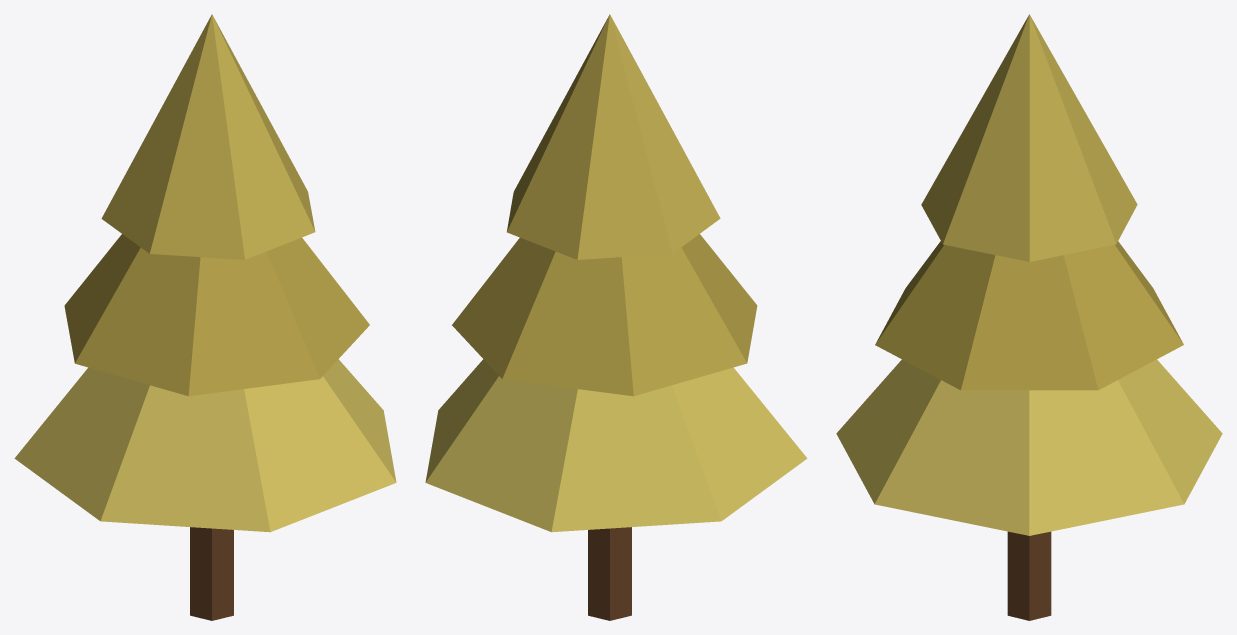
The model's file is SM_PineA_Y.glb.
The picture shows the model from 3 angles, left to right: view 1: azimuth 30°, elevation 25°; view 2: azimuth 150°, elevation 25°; view 3: azimuth 270°, elevation 25°; orthographic projection.
Parts seen in each view (by area): view 1: SM_PineA_Y; view 2: SM_PineA_Y; view 3: SM_PineA_Y.
Part boxes in pixels (box(x1,y1,x2,y2)): SM_PineA_Y: box(14, 14, 396, 620); SM_PineA_Y: box(425, 14, 807, 620); SM_PineA_Y: box(836, 14, 1222, 620).
Bounding box in the file's own units: 4.75 × 8.3 × 4.87.
Materials: 1 (1 with a texture image).
